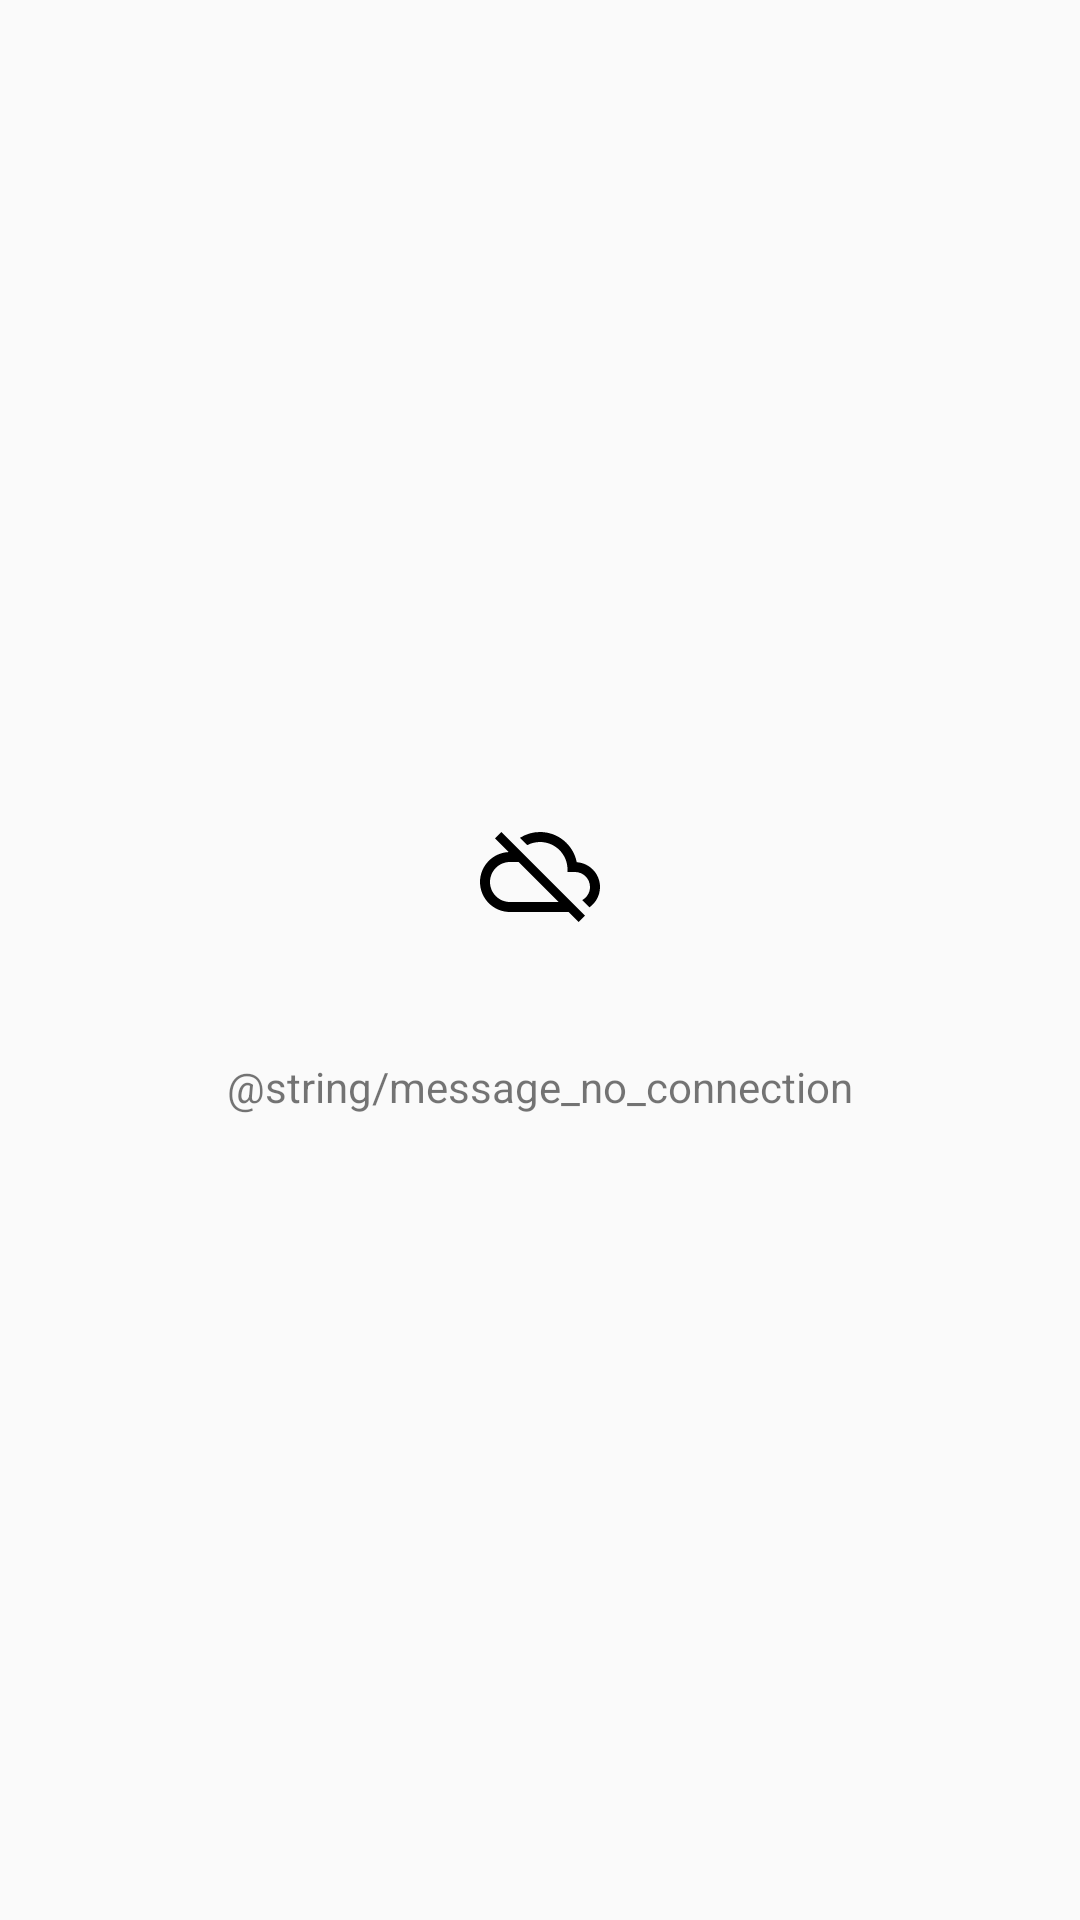

Locate icon controls on the screen. Image size 1080x1920, boxes as (x1, y1, x2, y2).
cloud off: (480, 832, 600, 922)
